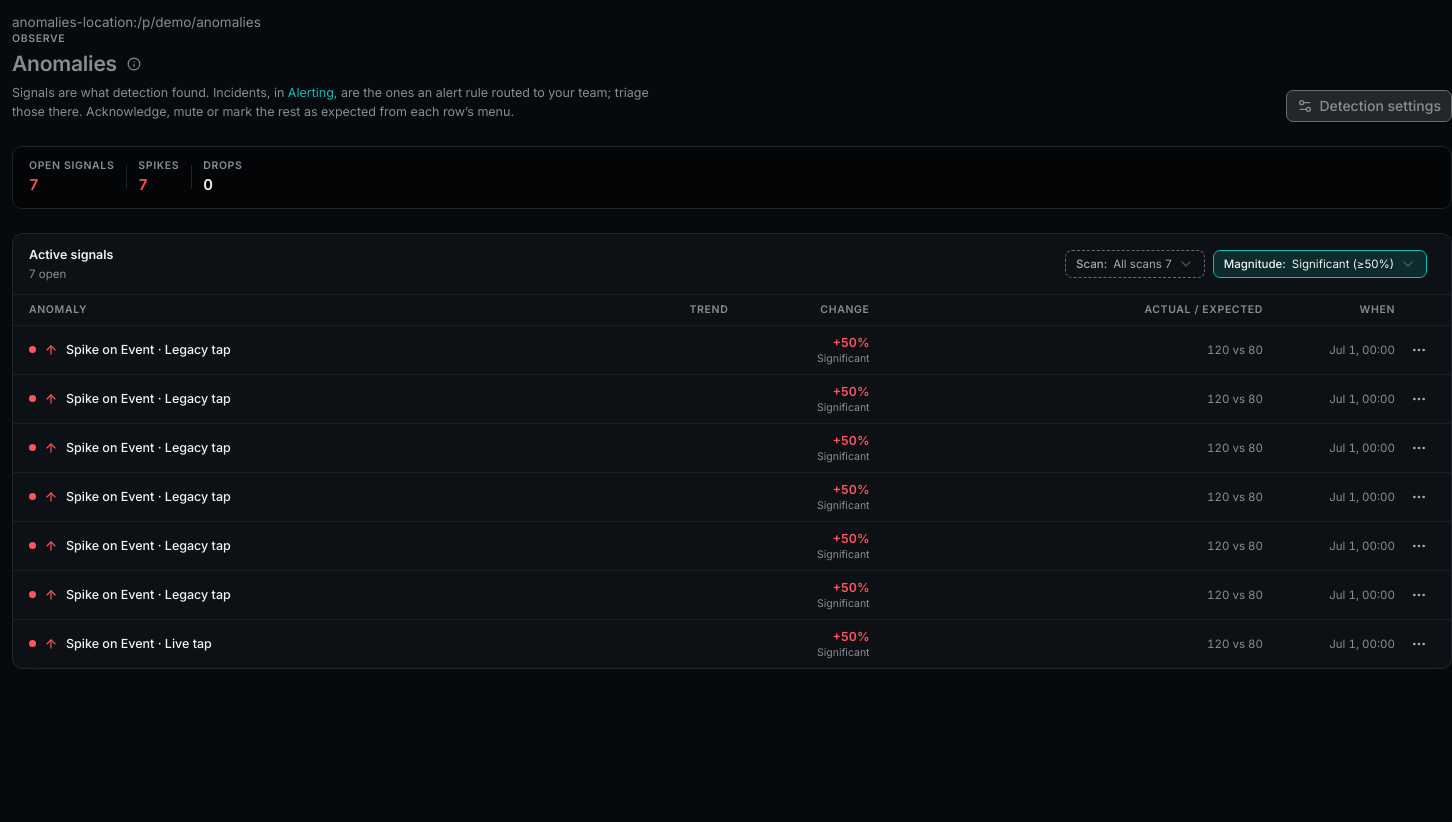
Test: AnomaliesPage — scan facet › narrows the list to one scan, with per-scan counts on the options
The width and height of the screenshot is (1452, 822).
Click the dropdown named "Scan filter: " at (1135, 264), box [1065,250,1205,278]
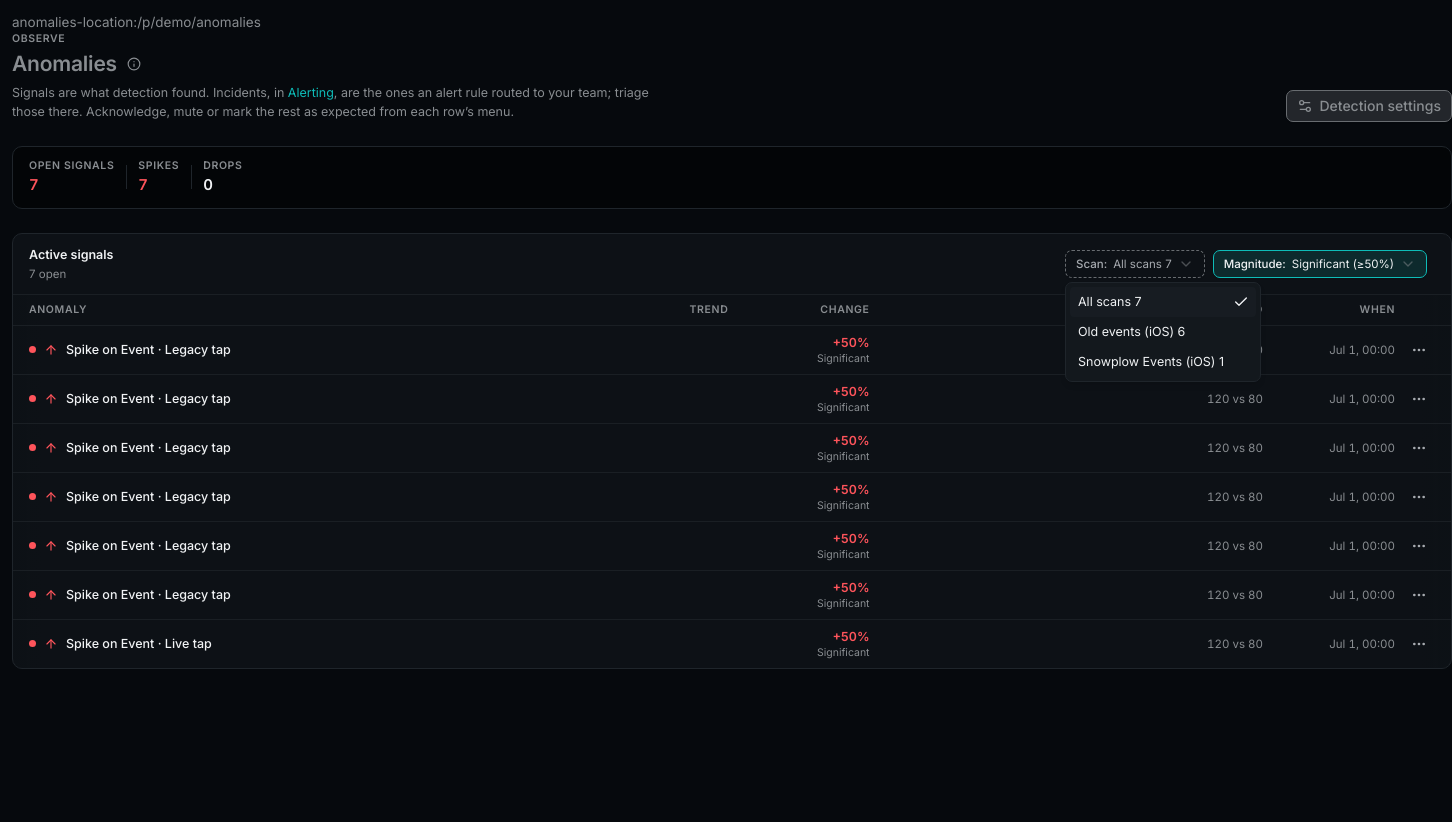
Press Escape in the list, box [1065,282,1261,382]
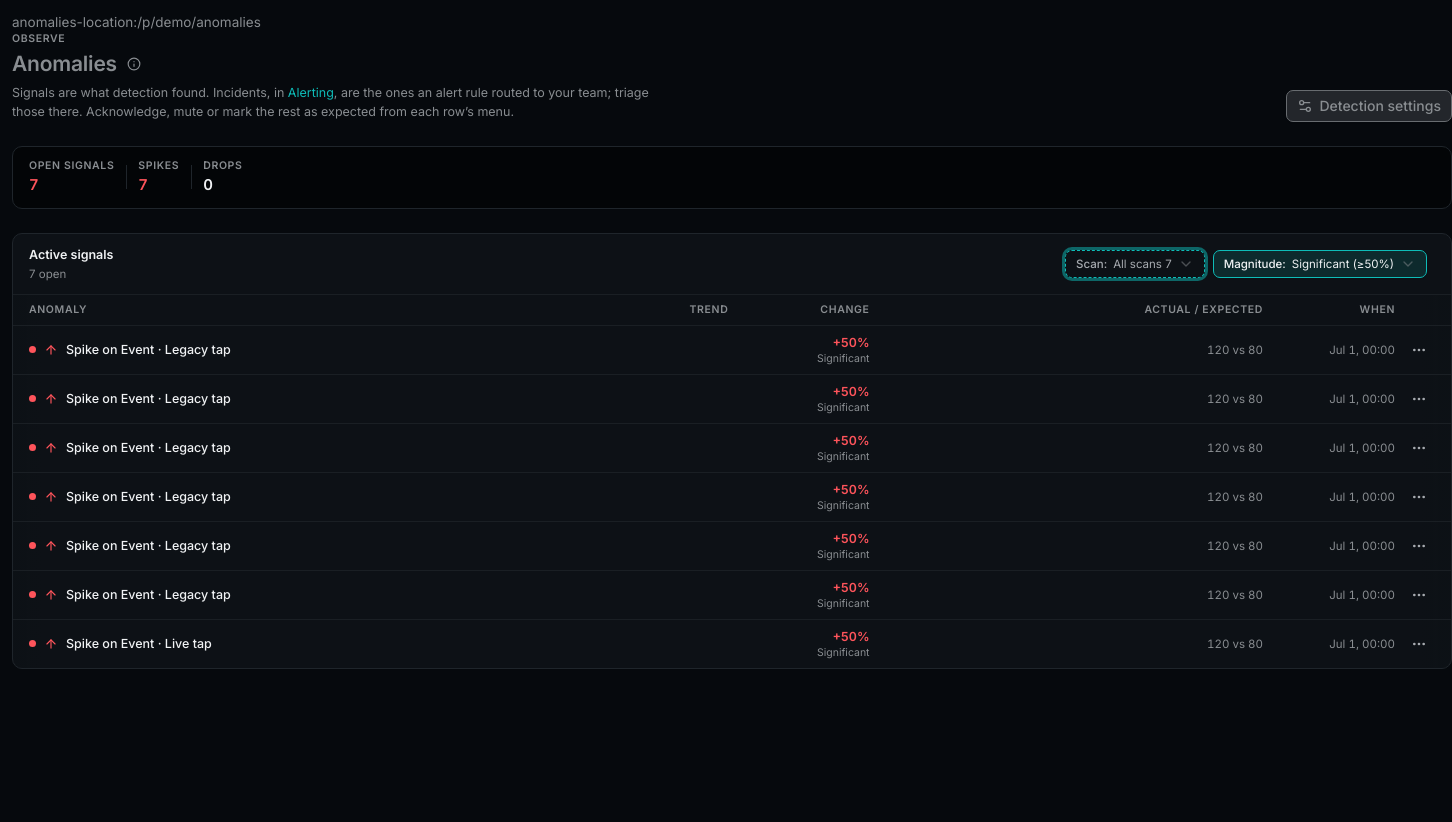
Click the dropdown named "Scan filter: " at (1135, 264), box [1065,250,1205,278]
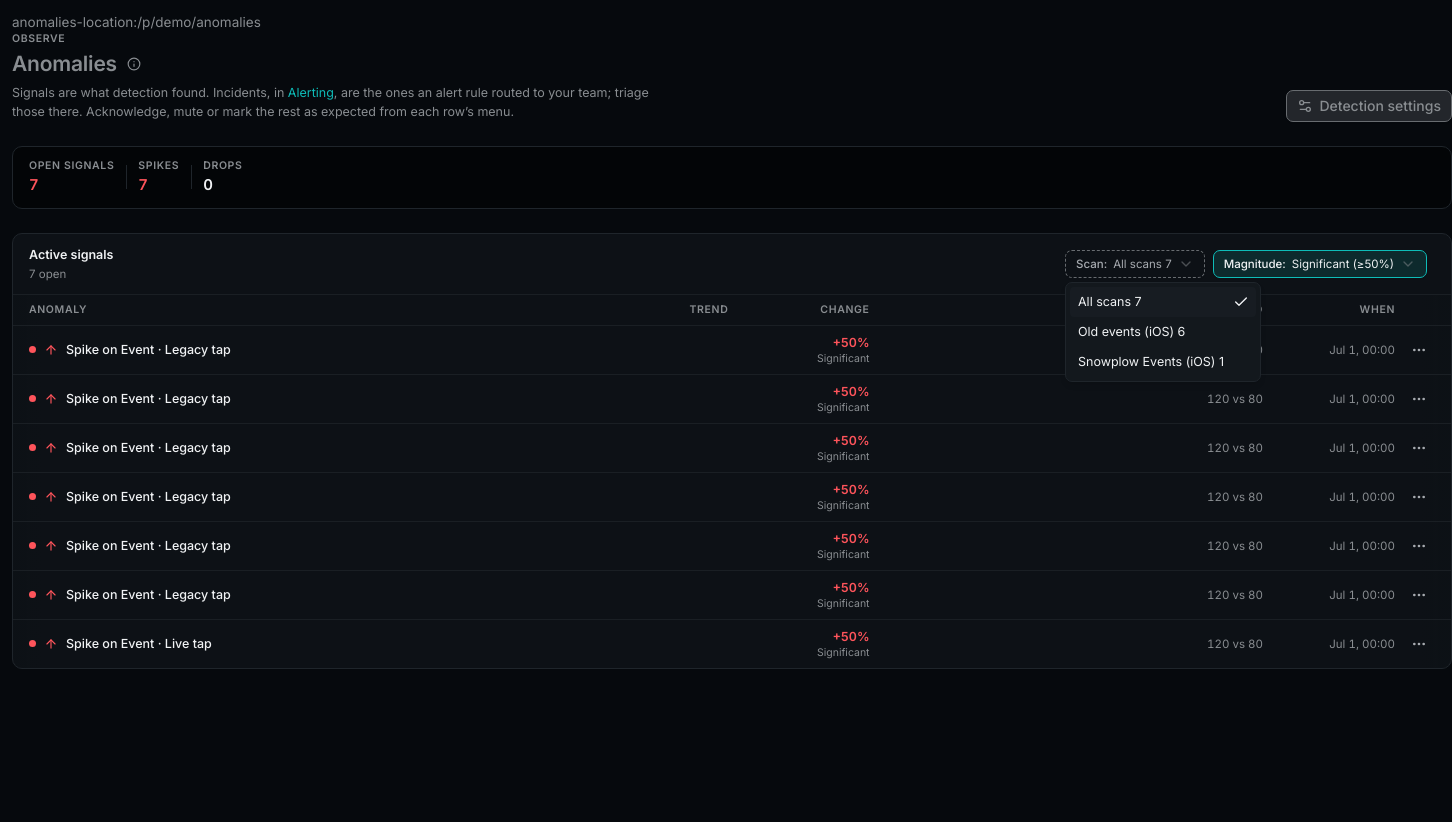
Click the option "Snowplow Events (iOS) 1" at (1151, 362), box [1078,354,1224,369]
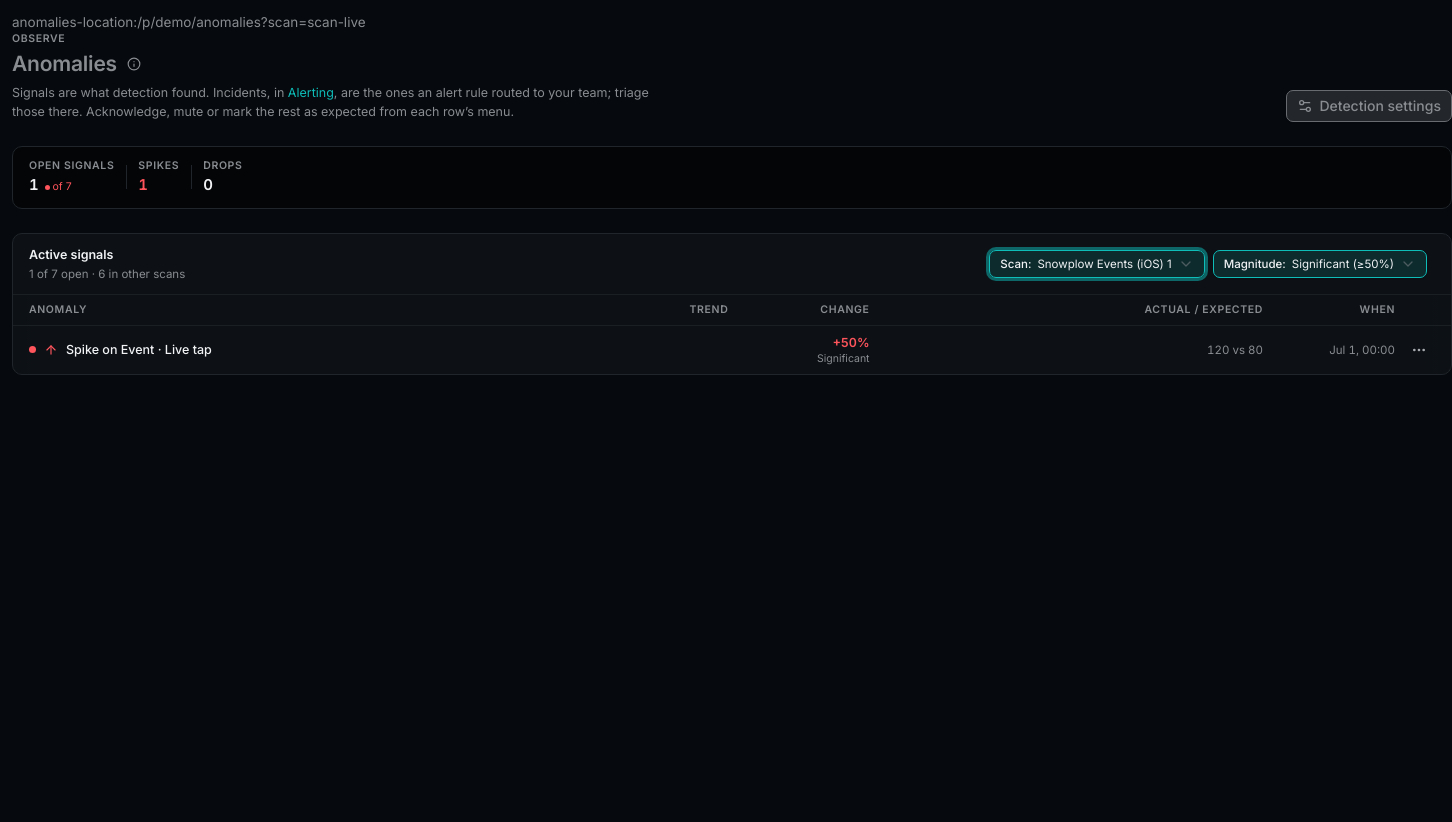
Check: the text "1 of 7 open · 6 in other scans" is shown, box [29,266,185,280]
